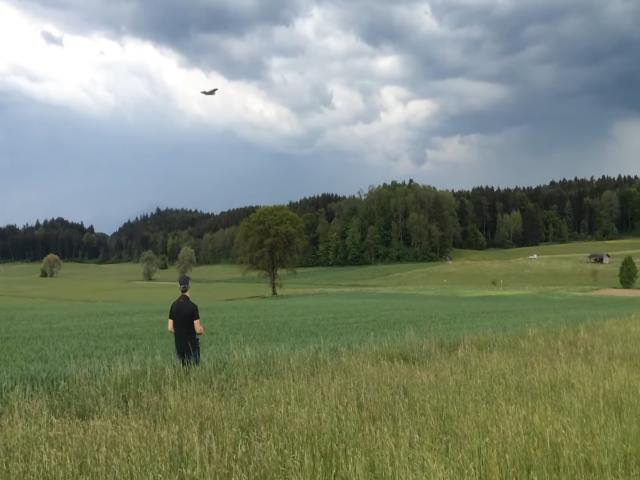plane: (201, 87, 218, 97)
